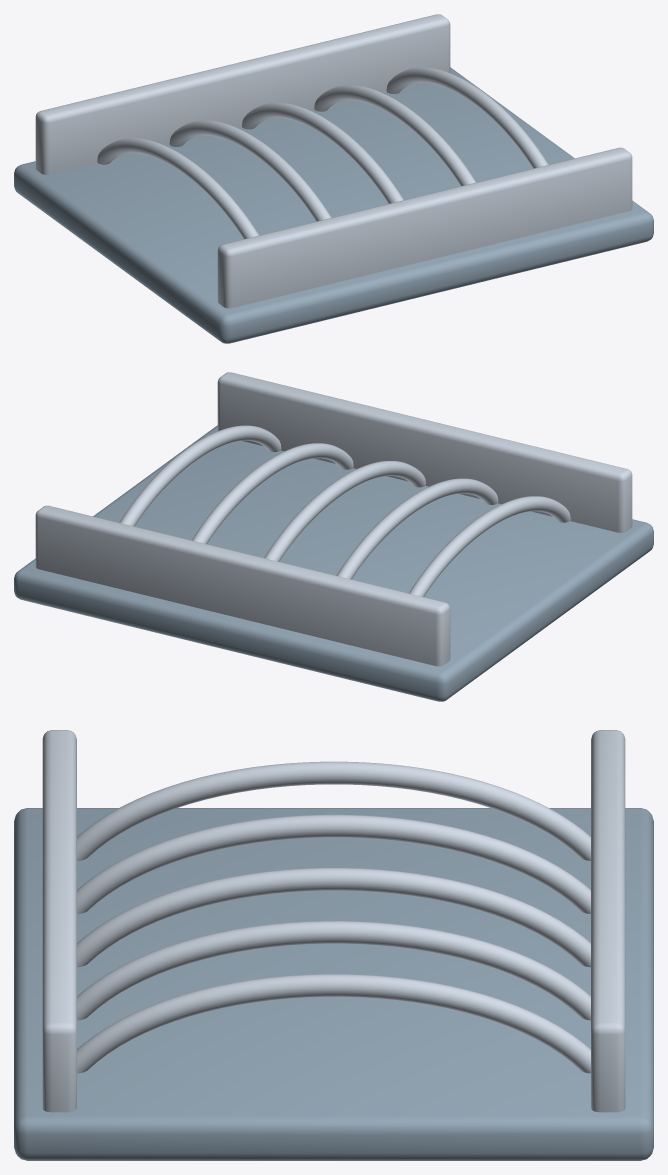
The model's file is dishrack.gltf.
The picture shows the model from 3 angles, top to bottom: view 1: azimuth 30°, elevation 25°; view 2: azimuth 150°, elevation 25°; view 3: azimuth 270°, elevation 25°; orthographic projection. The views are drawn at different scales.
Visible parts, largest first — view 1: RackInoxBase; view 2: RackInoxBase; view 3: RackInoxBase.
Boxes of the visible parts, left/top/right/bottom form: RackInoxBase: left=14, top=14, right=653, bottom=343; RackInoxBase: left=14, top=372, right=653, bottom=701; RackInoxBase: left=14, top=730, right=653, bottom=1160.
Size of the model in its own units: 0.66 by 0.1324 by 0.56.
